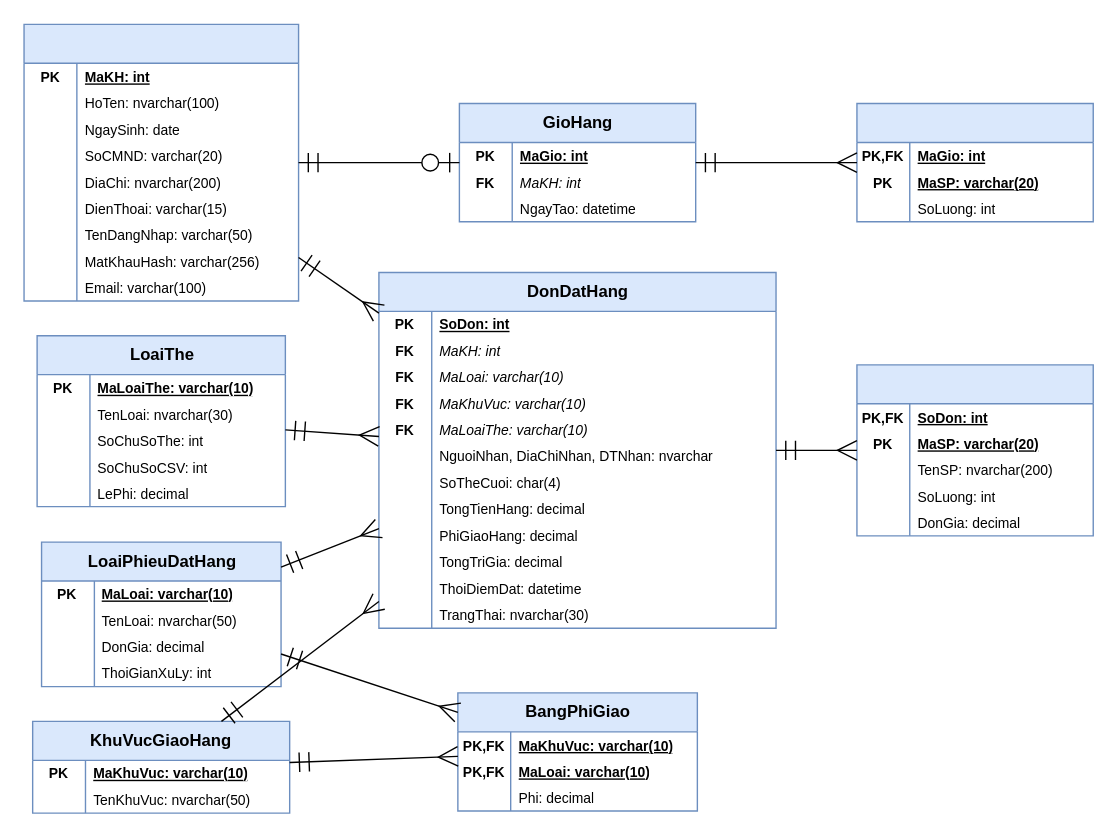
Image size: 1119x838. Some labels were removed from this diagram. Here are the shapes that lost their labels. From the top down, the box of each, then its label:
(23, 23, 299, 301): KhachHang
(856, 102, 1093, 222): ChiTietGioHang
(856, 363, 1093, 536): ChiTietDonHang
